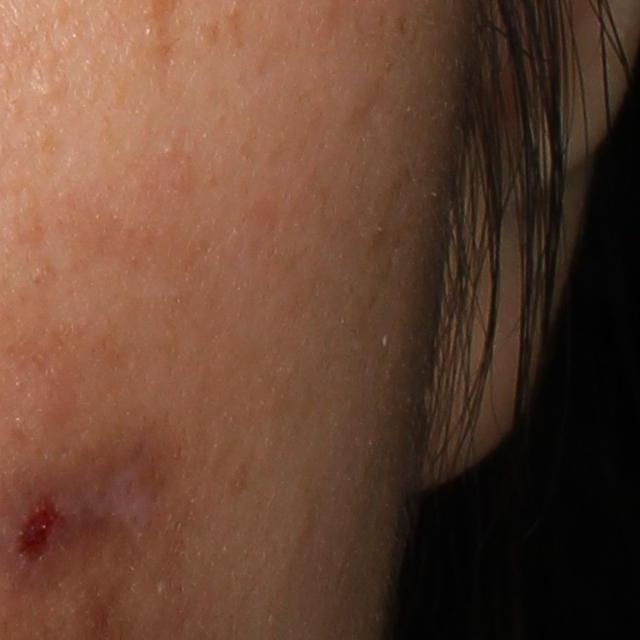comedo: (34, 78, 62, 105), (157, 142, 181, 159)
other: (7, 500, 61, 564)
